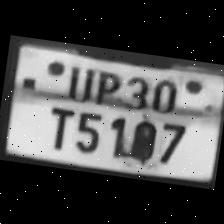0: (124, 111, 160, 164), (146, 72, 182, 114)
1: (101, 110, 131, 160)
3: (116, 69, 153, 111)
5: (68, 103, 106, 154)
7: (152, 114, 187, 167)
P: (88, 64, 124, 106)
T: (39, 99, 76, 152)
U: (59, 60, 95, 102)
